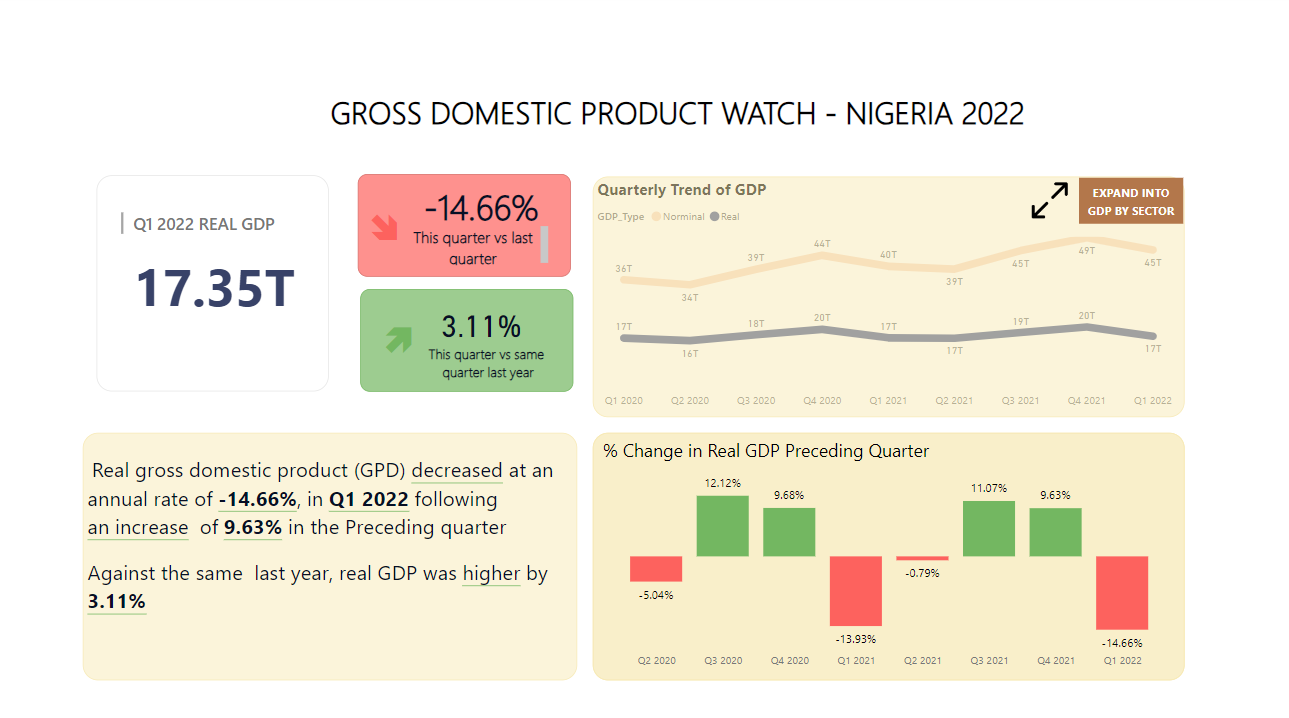

What the dashboard file says about the page in this screenshot:
{"tool":"powerbi","page":{"name":"Page 1","canvas":[1366,768],"ordinal":0},"visuals":[{"type":"textbox","title":"QoQ Background","box":[384.9,188.8,222.7,107.5],"z":0,"group":"g1"},{"type":"lineChart","title":"Quarterly Trend of GDP","fields":{"Category":["Date Table.Quarter Year"],"Y":["new calculations.GDP"],"Series":["GDP.GDP_Type"]},"box":[629.8,192,617.5,248.8],"z":0},{"type":"textbox","title":"Expand text","box":[1138.1,192,109.1,47.6],"z":0,"group":"g3"},{"type":"textbox","title":"YoY Background","box":[387.8,307.1,222.7,107.5],"z":0,"group":"g2"},{"type":"card","title":"QoQ Text","fields":{"Values":["new calculations.% QoQ"]},"box":[446.2,178,135.2,89.1],"z":1000,"group":"g1"},{"type":"textbox","title":"Background Line","box":[630.2,190.5,617.8,250.8],"z":1000},{"type":"image","title":"expand button","box":[1076.7,192,61.4,47.6],"z":1000,"group":"g3"},{"type":"card","title":"YoY Text","fields":{"Values":["new calculations.%v YoY"]},"box":[449.2,301.1,130.6,86],"z":1000,"group":"g2"},{"type":"textbox","title":"Text box for Line","box":[333.3,96.8,769.5,56.8],"z":2000},{"type":"card","title":"QoQ Indicator ","fields":{"Values":["new calculations.QoQ indicator"]},"box":[383.6,201,58.4,84.5],"z":2000,"group":"g1"},{"type":"card","title":"YoY Indicator","fields":{"Values":["new calculations.YoY INDICATOR"]},"box":[393.9,319.4,67.6,79.9],"z":2000,"group":"g2"},{"type":"card","title":"Card for current real GDP","fields":{"Values":["new calculations.CURRENT REAL GDP"]},"box":[112.1,188.9,242.7,225.8],"z":3000},{"type":"textbox","title":"Text box","box":[429.3,237.9,159.7,50.7],"z":3000,"group":"g1"},{"type":"textbox","box":[451.6,360.9,139,80],"z":3000,"group":"g2"},{"type":"multiRowCard","title":"Multi-row card for Q1 2022 Real GDP","fields":{"Values":["new calculations.CURRENT QUARTER TEXT"]},"box":[133.6,222.7,199.7,33.8],"z":4000},{"type":"textbox","title":"Analysis background","box":[98.3,457.7,516.1,258],"z":5000},{"type":"textbox","title":"% QoQ by Quarter year background","box":[629.8,457.7,617.5,258],"z":6000},{"type":"group","id":"g1","title":"Group 1","box":[383.6,178,224,118.3],"z":7000},{"type":"group","id":"g2","title":"Group 2","box":[387.8,301.1,222.7,139.8],"z":8000},{"type":"columnChart","title":"% Change in Real GDP Preceding Quarter","fields":{"Category":["Date Table.Quarter Year"],"Y":["new calculations.% QoQ"]},"box":[629.8,457.7,617.5,258],"z":9000},{"type":"textbox","title":"Analysis text box","box":[98.3,457.7,513,258],"z":10000},{"type":"group","id":"g3","title":"Group 3","box":[1076.7,192,170.5,47.6],"z":11000},{"type":"lineChart","title":"% Real GDP by Activity Sector(Top 10)","fields":{"Category":["Date Table.Quarter Year"],"Series":["GDP BY ACTIVITY_SECTOR.ACTIVITY_SECTOR_OTHERS"],"Y":["new calculations.CURRENT REAL GDP"]},"box":[629.8,190.5,617.5,525.3],"z":13000,"group":"g4"},{"type":"image","title":"Image","box":[1190.4,193.6,56.8,43],"z":14000,"group":"g4"},{"type":"group","id":"g4","title":"Group 4","box":[629.8,190.5,617.5,525.3],"z":14001}]}

Visuals, with their boxes in screenshot pixels (x1, y1, x2, y2), scaled from the page's 1366x768 canvas onto the 1289x718 screenshot:
"QoQ Background" textbox: left=363, top=177, right=573, bottom=277
"Quarterly Trend of GDP" lineChart: left=594, top=180, right=1177, bottom=412
"Expand text" textbox: left=1074, top=180, right=1177, bottom=224
"YoY Background" textbox: left=366, top=287, right=576, bottom=388
"QoQ Text" card: left=421, top=166, right=549, bottom=250
"Background Line" textbox: left=595, top=178, right=1178, bottom=413
"expand button" image: left=1016, top=180, right=1074, bottom=224
"YoY Text" card: left=424, top=281, right=547, bottom=362
"Text box for Line" textbox: left=315, top=90, right=1041, bottom=144
"QoQ Indicator " card: left=362, top=188, right=417, bottom=267
"YoY Indicator" card: left=372, top=299, right=435, bottom=373
"Card for current real GDP" card: left=106, top=177, right=335, bottom=388
"Text box" textbox: left=405, top=222, right=556, bottom=270
textbox: left=426, top=337, right=557, bottom=412
"Multi-row card for Q1 2022 Real GDP" multiRowCard: left=126, top=208, right=315, bottom=240
"Analysis background" textbox: left=93, top=428, right=580, bottom=669
"% QoQ by Quarter year background" textbox: left=594, top=428, right=1177, bottom=669
"Group 1" group: left=362, top=166, right=573, bottom=277
"Group 2" group: left=366, top=281, right=576, bottom=412
"% Change in Real GDP Preceding Quarter" columnChart: left=594, top=428, right=1177, bottom=669
"Analysis text box" textbox: left=93, top=428, right=577, bottom=669
"Group 3" group: left=1016, top=180, right=1177, bottom=224
"% Real GDP by Activity Sector(Top 10)" lineChart: left=594, top=178, right=1177, bottom=669
"Image" image: left=1123, top=181, right=1177, bottom=221
"Group 4" group: left=594, top=178, right=1177, bottom=669
